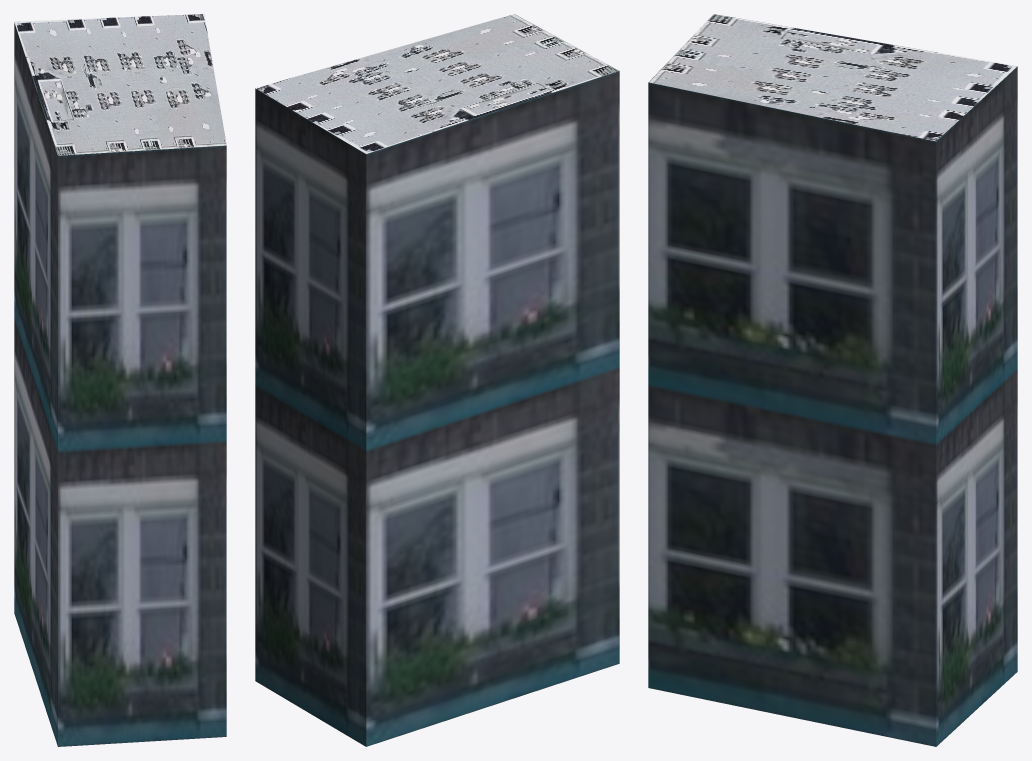
File: ResTex__1197.fbx
3 views of the same model, side by side, from view 1: azimuth 30°, elevation 25°; view 2: azimuth 150°, elevation 25°; view 3: azimuth 270°, elevation 25° (orthographic). The views are drawn at different scales.
Parts seen in each view (by area): view 1: CityEngineMaterial_11_m, CityEngineMaterial_4_m; view 2: CityEngineMaterial_11_m, CityEngineMaterial_4_m; view 3: CityEngineMaterial_11_m, CityEngineMaterial_4_m.
Part boxes in pixels (box(x1,y1,x2,y2)): CityEngineMaterial_11_m: box(14, 23, 226, 746); CityEngineMaterial_4_m: box(14, 14, 226, 155); CityEngineMaterial_11_m: box(255, 71, 619, 746); CityEngineMaterial_4_m: box(255, 14, 619, 153); CityEngineMaterial_11_m: box(648, 66, 1017, 746); CityEngineMaterial_4_m: box(648, 14, 1016, 141).
Bounding box in the file's own units: 2.71 × 6 × 3.32.
Materials: 2 (2 with a texture image).
